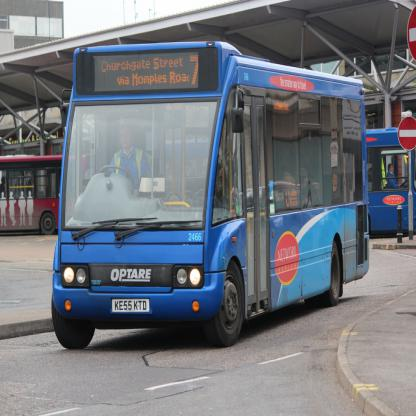Bus: (52, 41, 370, 350), (0, 154, 91, 236), (366, 126, 416, 239)
